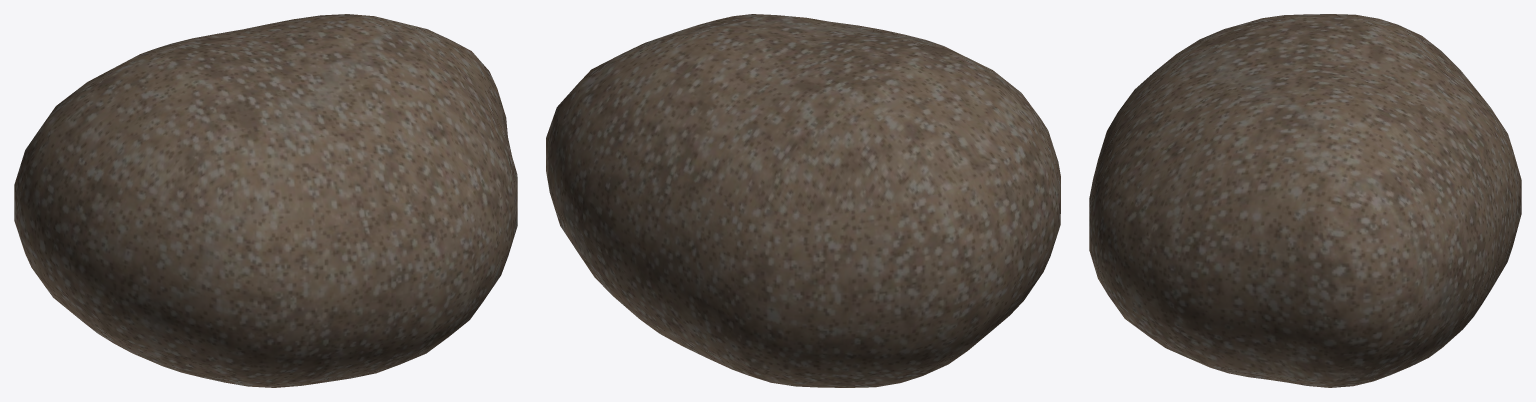
File: plunge_boulder_04.glb
3 renders of one model, left to right at view 1: azimuth 30°, elevation 25°; view 2: azimuth 150°, elevation 25°; view 3: azimuth 270°, elevation 25°, orthographic. The views are drawn at different scales.
Parts seen in each view (by area): view 1: plunge_boulder_04; view 2: plunge_boulder_04; view 3: plunge_boulder_04.
Part boxes in pixels (left/top/right/bottom): plunge_boulder_04: left=14, top=14, right=517, bottom=387; plunge_boulder_04: left=546, top=14, right=1060, bottom=387; plunge_boulder_04: left=1089, top=14, right=1521, bottom=387.
Size of the model in its own units: 0.0808 by 0.0519 by 0.0686.
Materials: 1 (1 with a texture image).
